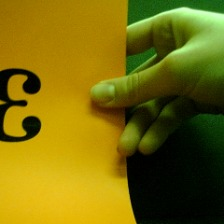orange3: (1, 63, 50, 151)
